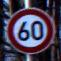Speed Limit -60-: (5, 7, 54, 53)
